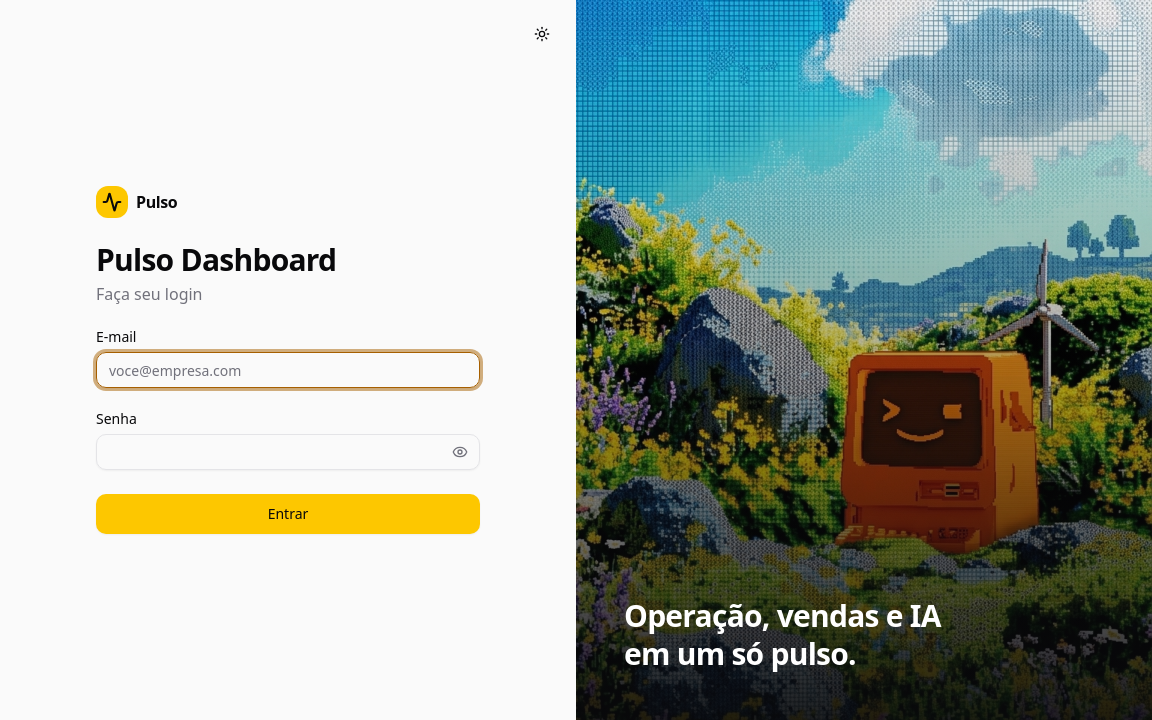
Login › mostra a mensagem da API em caso de 401
Step 1. Type "alguem@pulso.local" into the field labelled "E-mail" → x=288, y=370, box left=96, top=352, right=480, bottom=388
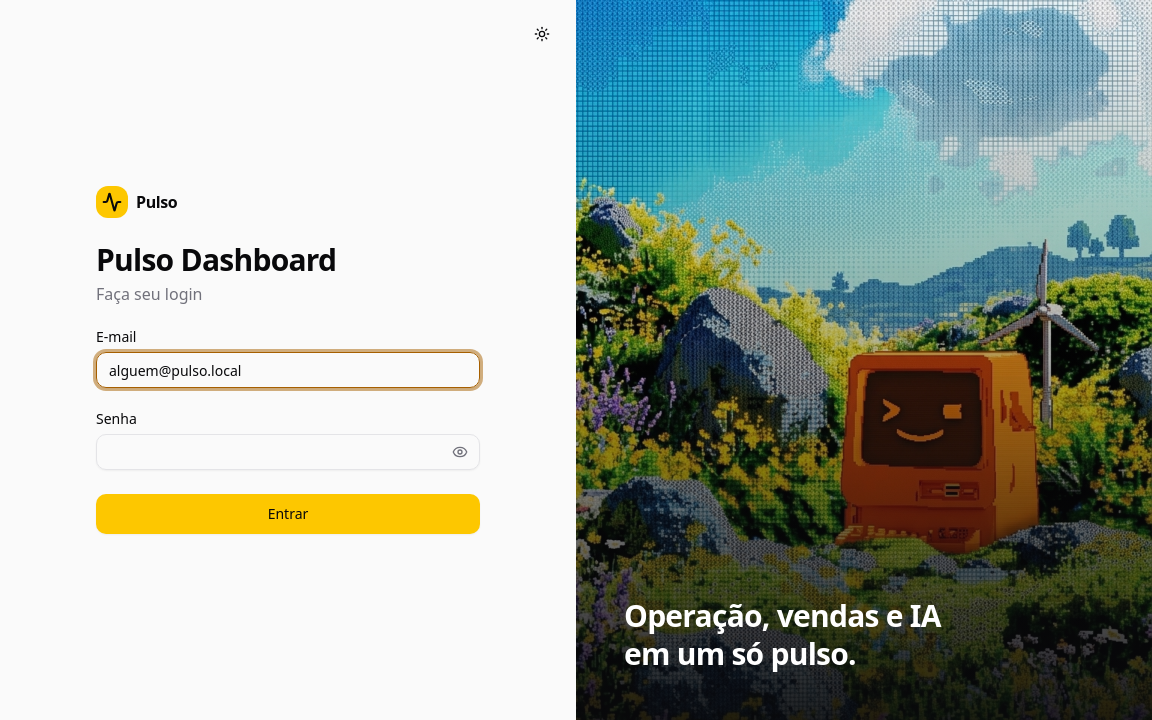
Step 2. Type "errada" into the password field labelled "Senha" → x=288, y=452, box left=96, top=434, right=480, bottom=470
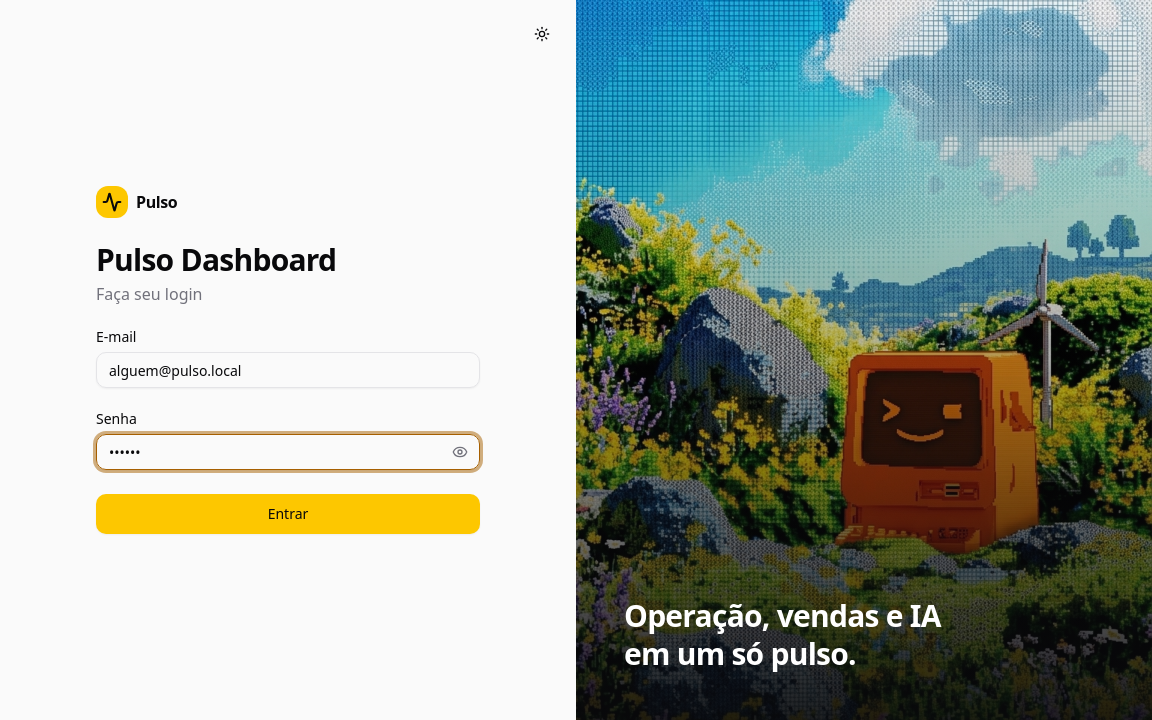
Step 3. Press Enter
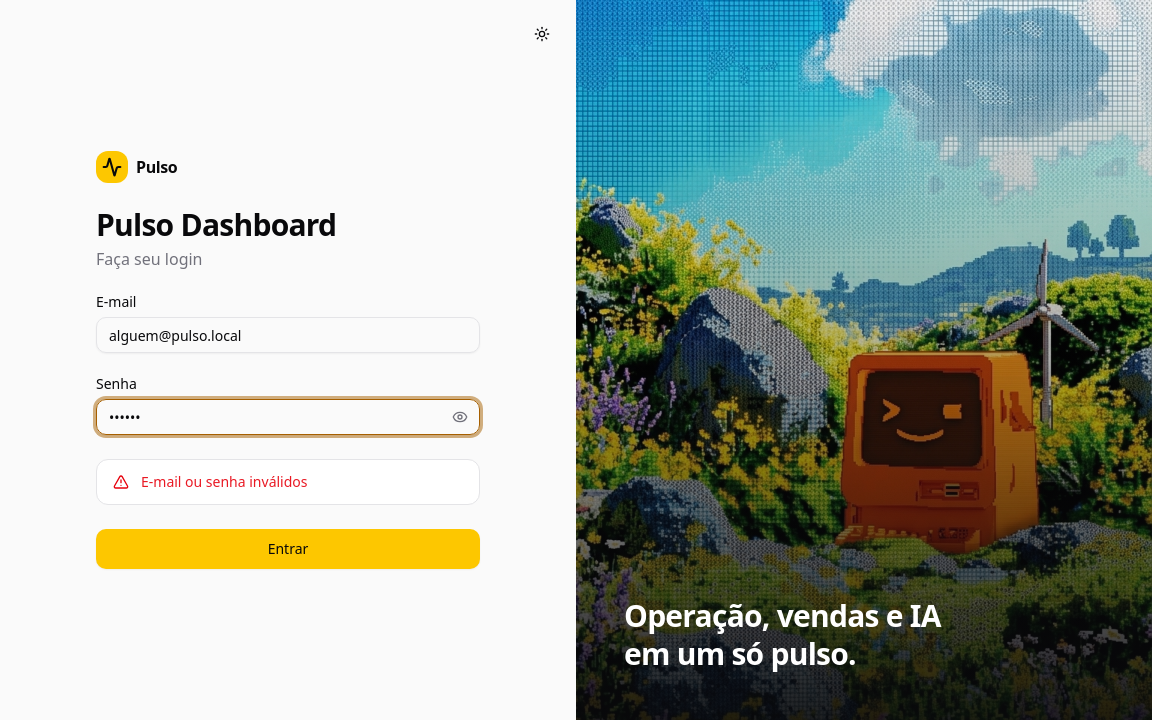
Expected: the message reads "E-mail ou senha inválidos", left=141, top=472, right=308, bottom=491
